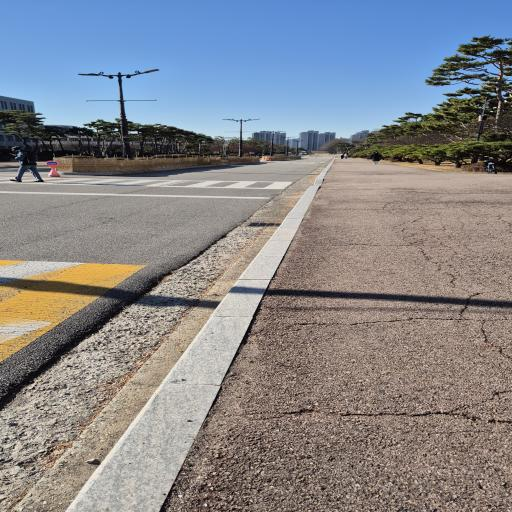drain: (247, 222, 280, 227)
